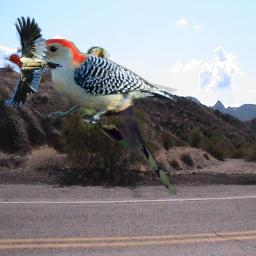Cuckoo: (68, 46, 185, 198)
Woodpecker: (17, 39, 177, 126), (4, 16, 63, 107)
